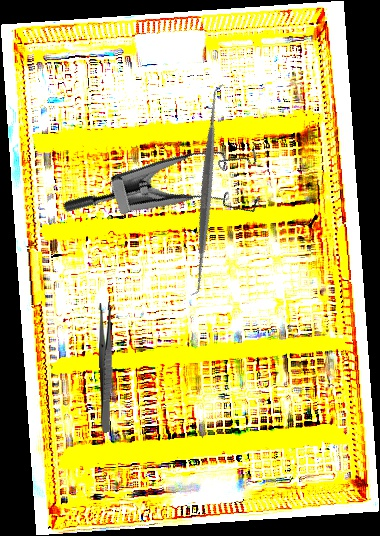Dressing Forceps: (98, 302, 114, 433)
Spatula Surgical: (101, 82, 313, 298)
Speculum: (60, 112, 281, 288)
